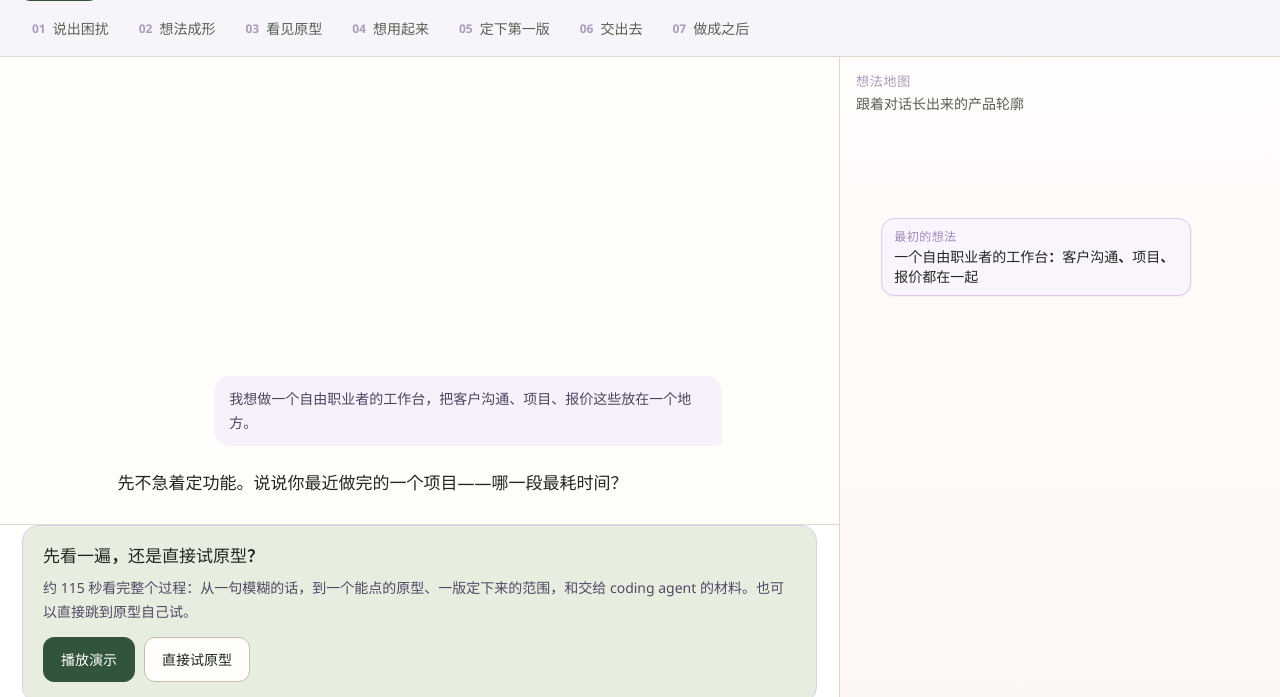
Test: the three directions › stops playback rather than moving on under the visitor
(page scrolled)
Click the button "播放演示" at (89,660), box top-left (43, 637), bottom-right (135, 682)
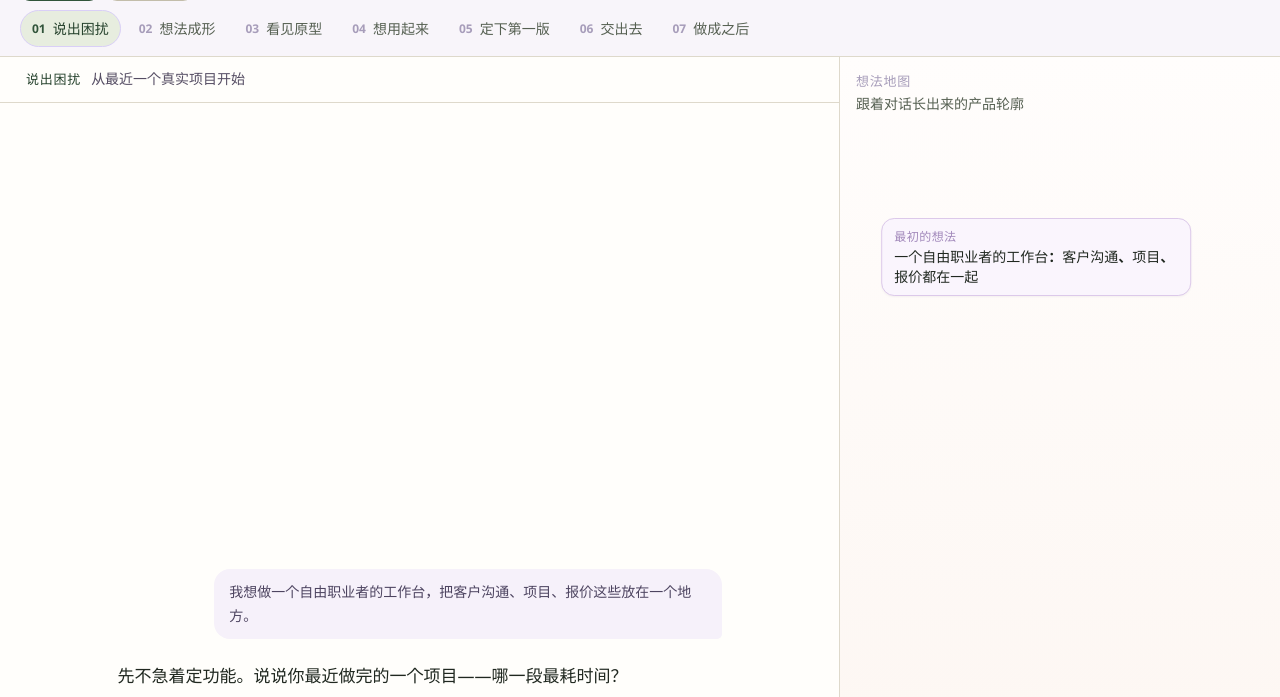
Click the button "05 定下第一版" at (504,28), box top-left (447, 10), bottom-right (562, 47)
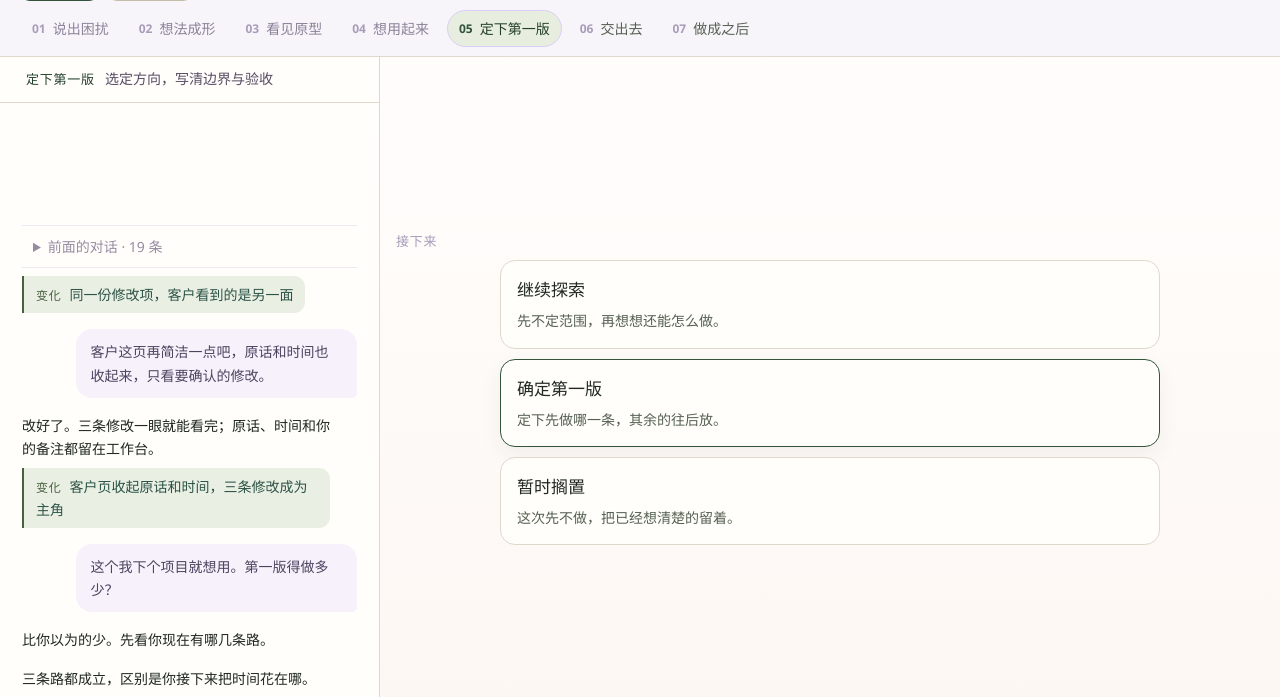
Click the text "继续探索" at (551,290), box top-left (517, 278), bottom-right (585, 302)
Wait 240000 ms
(page scrolled)
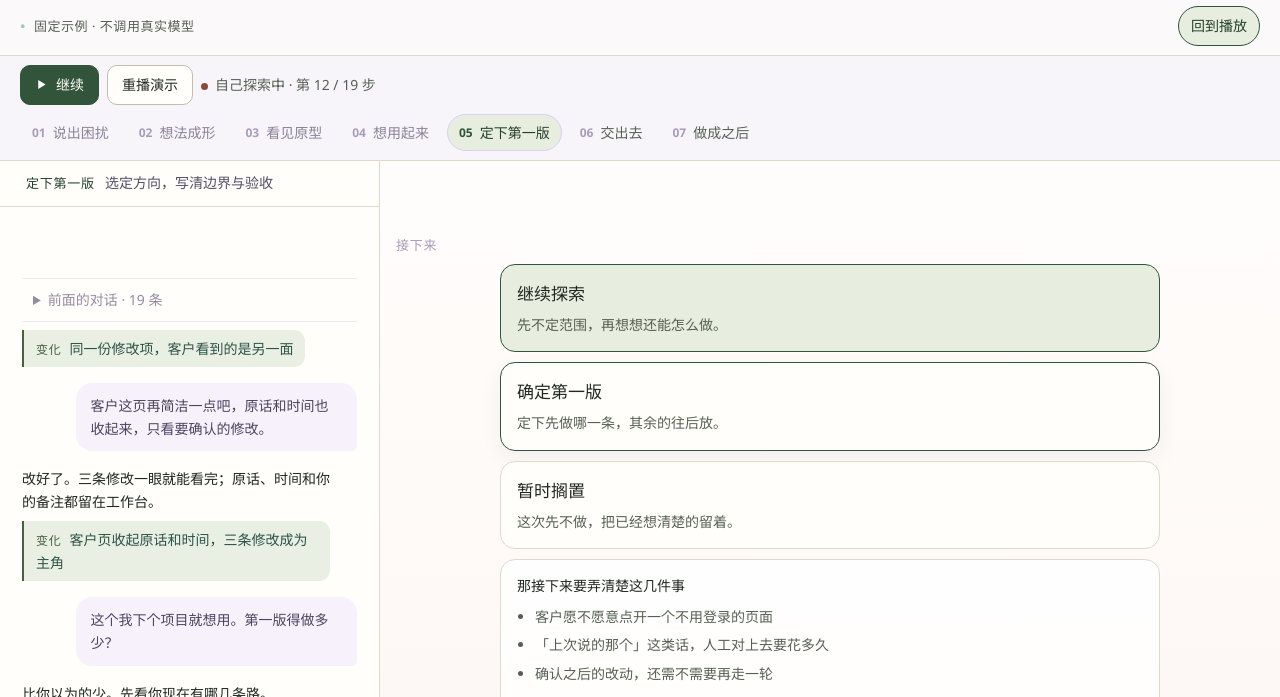
Result: the text with class "transport-status" shows "自己探索中" at top-left (215, 75), bottom-right (376, 94)
